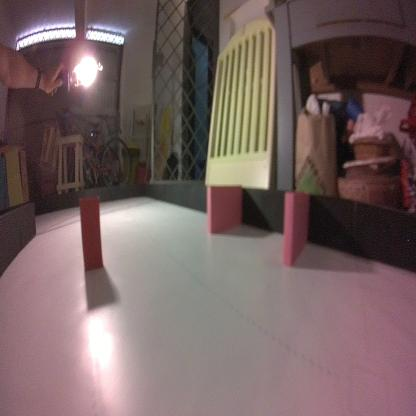magenta: (282, 188, 312, 272), (204, 181, 245, 238)
red: (78, 194, 104, 272)
